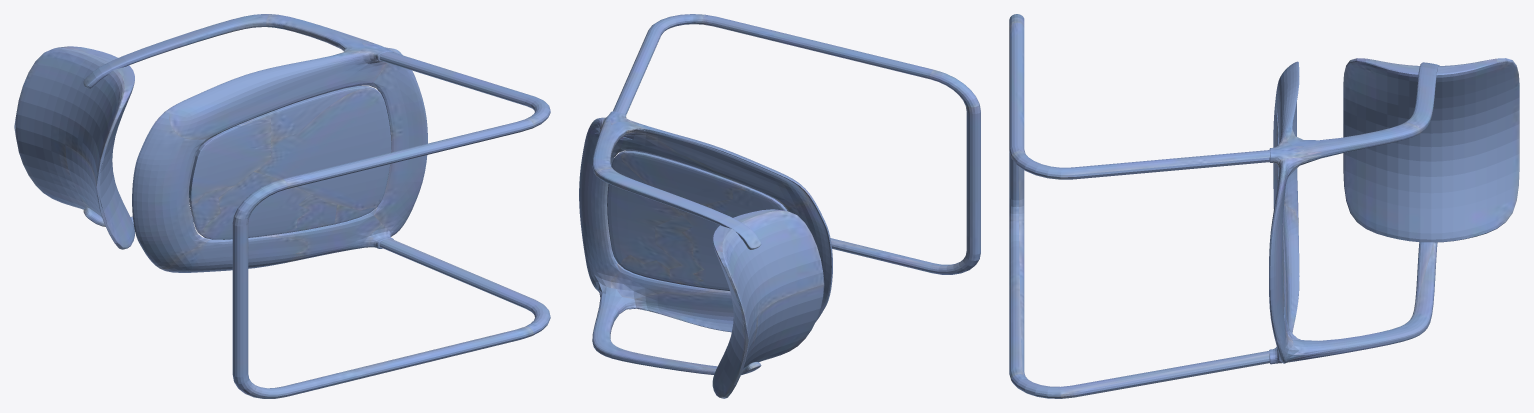
Rendered from chair_10.glb.
3 views of the same model, side by side, from view 1: azimuth 30°, elevation 25°; view 2: azimuth 150°, elevation 25°; view 3: azimuth 270°, elevation 25° (orthographic). The views are drawn at different scales.
Visible parts, largest first — view 1: chair_10; view 2: chair_10; view 3: chair_10.
Boxes of the visible parts, x1,y1,x2,y2 form: chair_10: (14, 14, 550, 398); chair_10: (579, 14, 980, 398); chair_10: (1009, 14, 1519, 398).
Bounding box in the file's own units: 2.54 × 1.58 × 3.15.
Materials: 1 (1 with a texture image).
